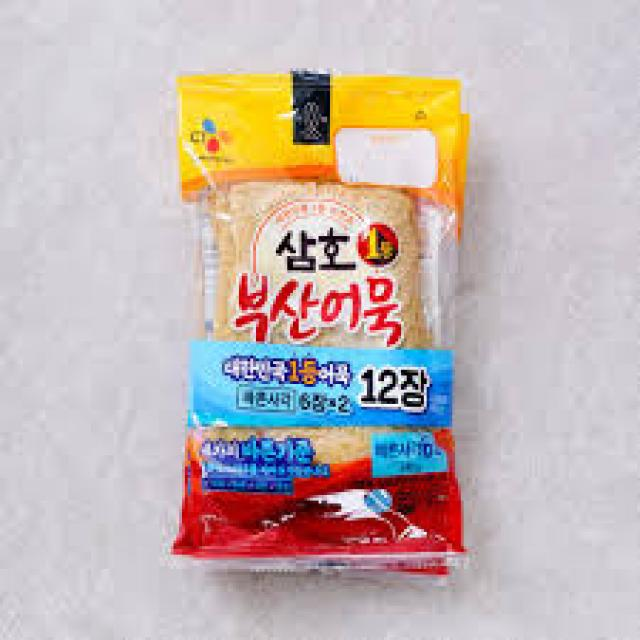fish_cake: (160, 57, 470, 592)
